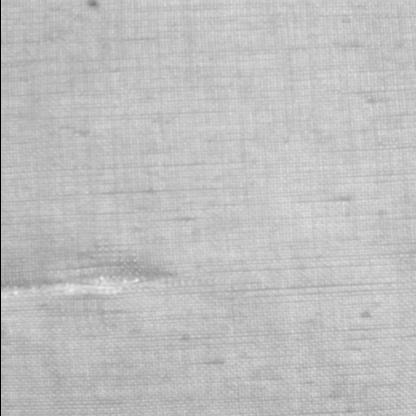thread error: (1, 248, 177, 304)
